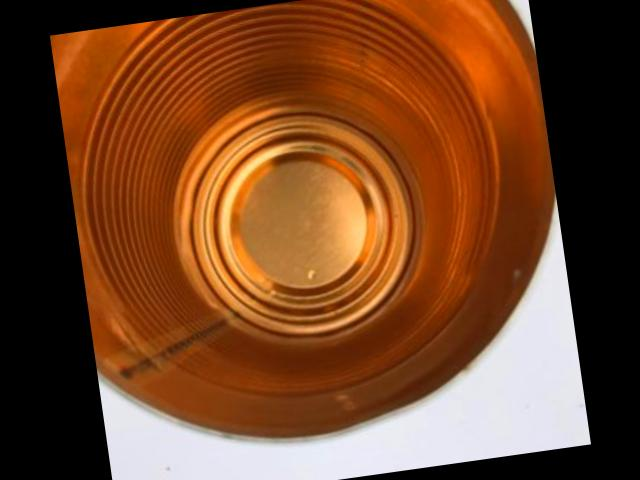metal: (51, 0, 555, 439)
